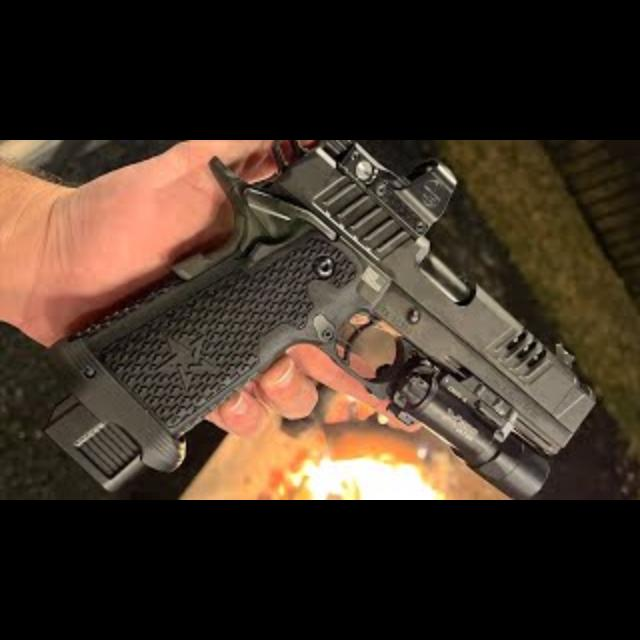handgun: (30, 140, 602, 500)
